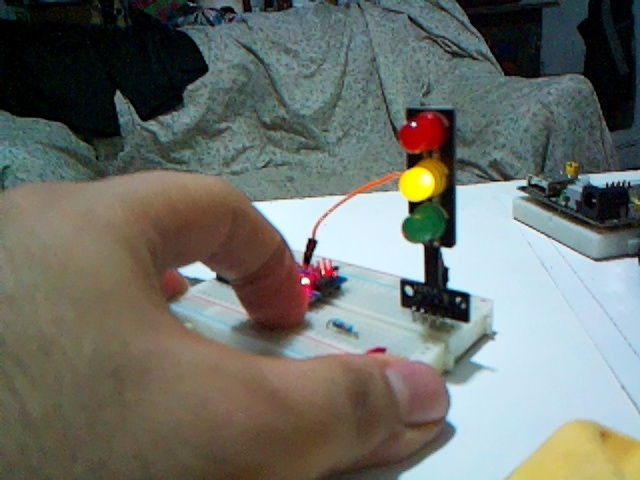traffic_light_yellow: (399, 108, 456, 247)
